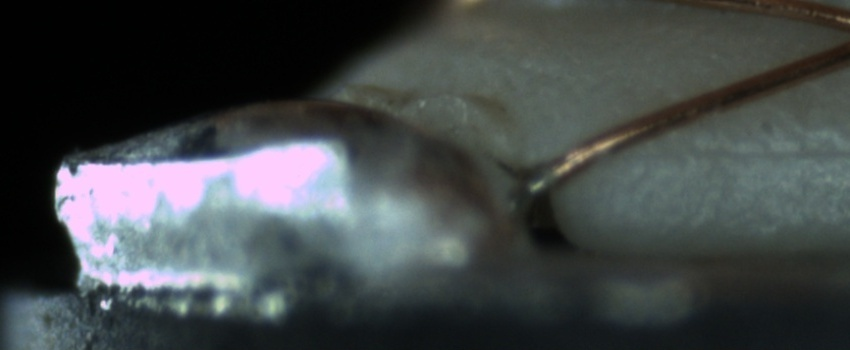CL: (832, 10, 850, 62)
DL: (635, 121, 849, 182)
